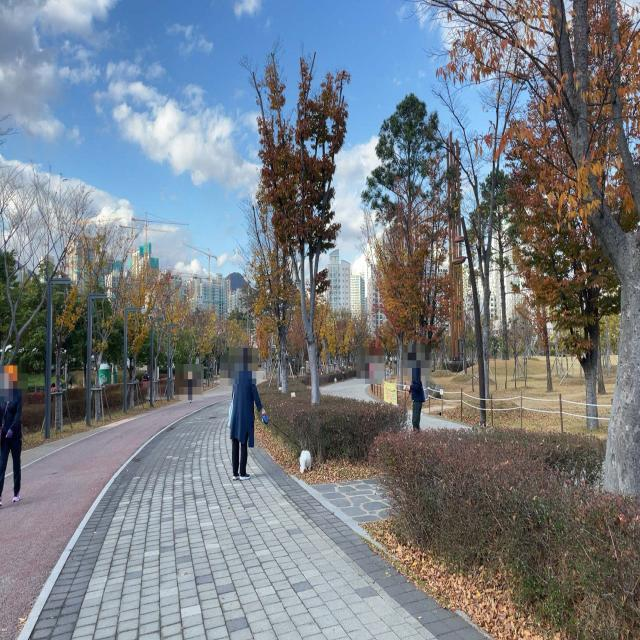Leashed_Dog: (243, 401, 313, 475)
